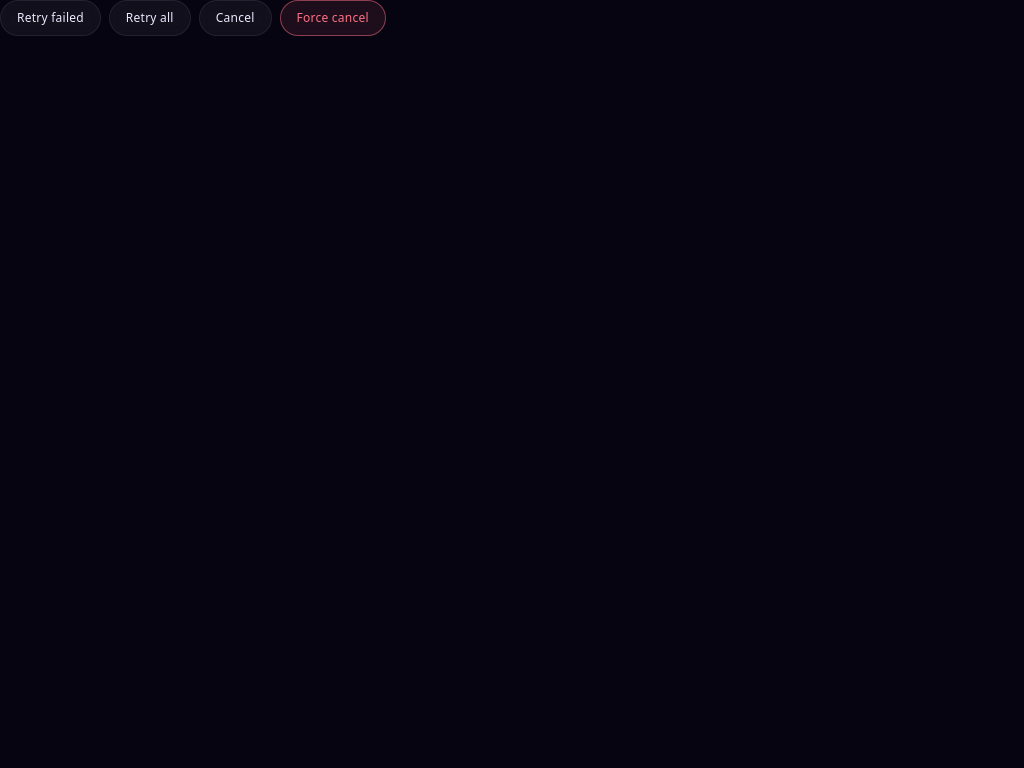
Scenario: a nothing-matched 409 says nothing changed, not a generic failure
Step 1. Click the button "Retry failed" → {"x": 50, "y": 18}, box [0, 0, 101, 36]
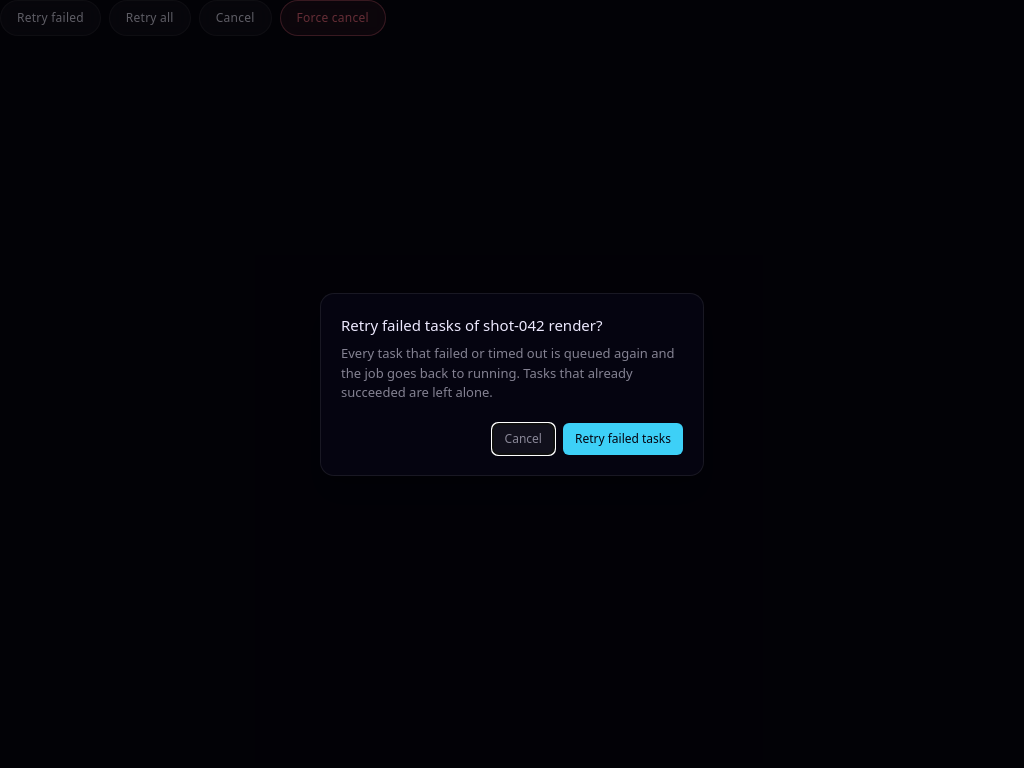
Step 2. Click the button "Retry failed tasks" → {"x": 623, "y": 438}, box [563, 422, 683, 454]
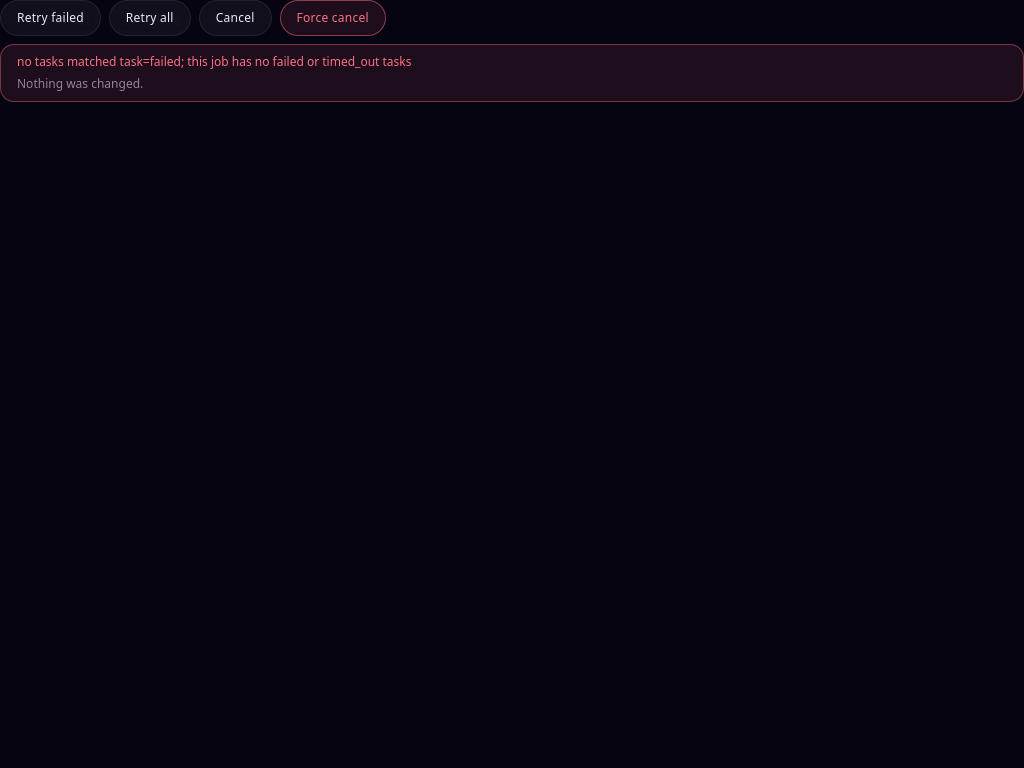
Expected: the text "no failed or timed_out tasks" is shown, [17, 53, 412, 70]
Expected: the text "Nothing was changed." is shown, [17, 75, 143, 92]
